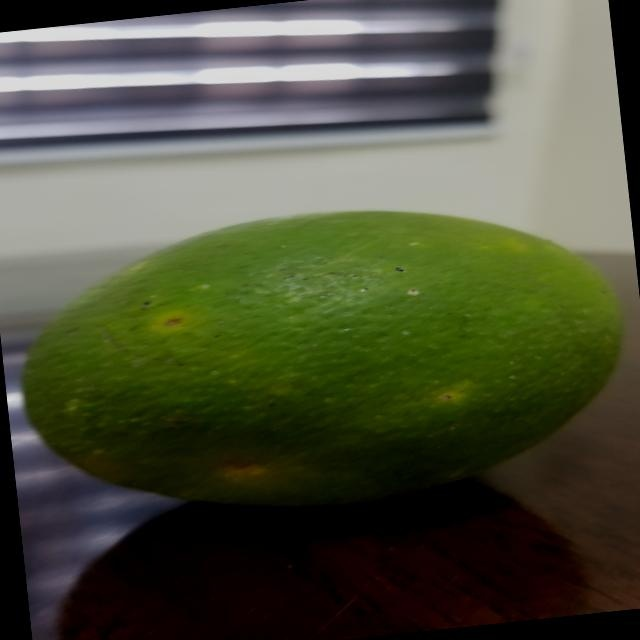agrume: (0, 157, 640, 551)
